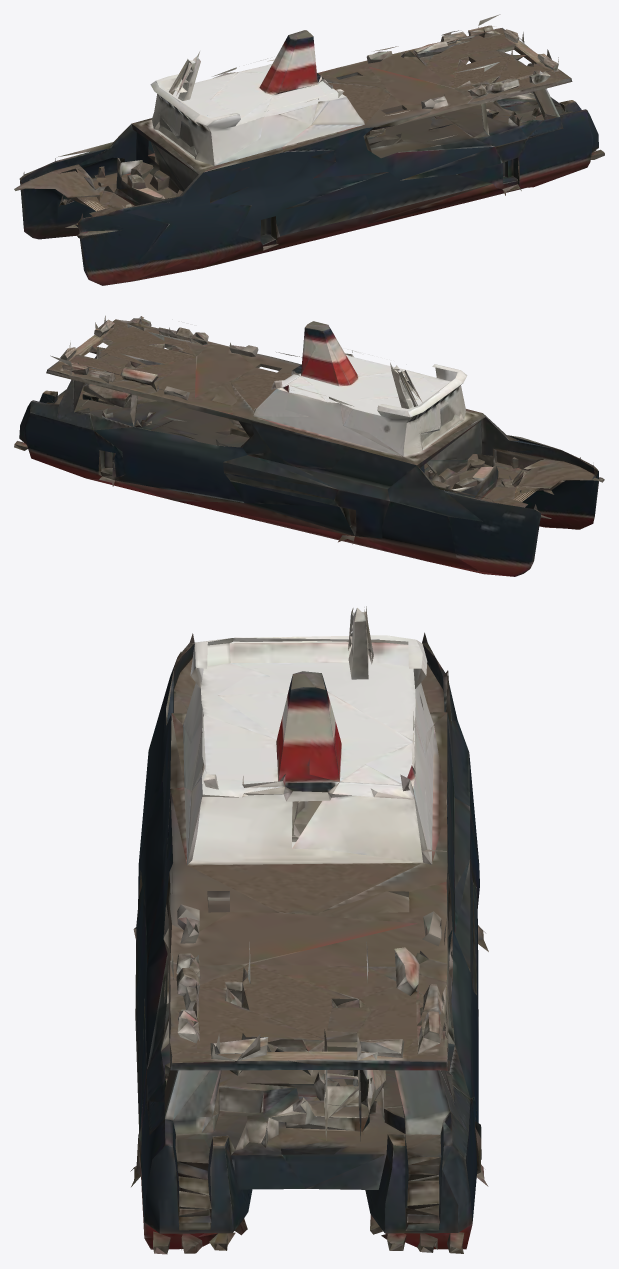
File: ferry.glb
The picture shows the model from 3 angles, top to bottom: view 1: azimuth 30°, elevation 25°; view 2: azimuth 150°, elevation 25°; view 3: azimuth 270°, elevation 25°; orthographic projection. The views are drawn at different scales.
Visible parts, largest first — view 1: mesh_node; view 2: mesh_node; view 3: mesh_node.
Part boxes in pixels (bbox=[...]): mesh_node: bbox=[14, 14, 604, 285]; mesh_node: bbox=[14, 315, 604, 576]; mesh_node: bbox=[130, 606, 488, 1254].
Bounding box in the file's own units: 1.91 × 0.6128 × 0.5637.
1 material, 1 textured.
